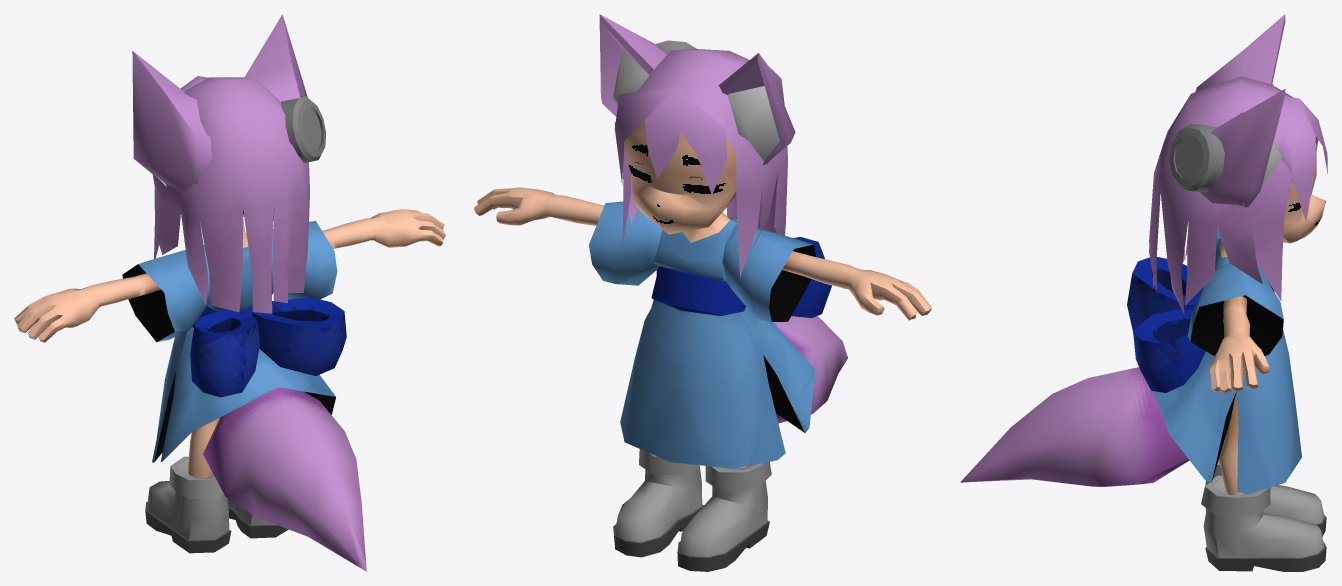
Rendered from minisil.glb.
3 views of the same model, side by side, from view 1: azimuth 30°, elevation 25°; view 2: azimuth 150°, elevation 25°; view 3: azimuth 270°, elevation 25° (orthographic). The views are drawn at different scales.
Parts seen in each view (by area): view 1: minisil; view 2: minisil; view 3: minisil.
Boxes of the visible parts, x1=… form: minisil: x1=14, y1=14, x2=445, y2=571; minisil: x1=474, y1=14, x2=931, y2=571; minisil: x1=960, y1=14, x2=1327, y2=571.
Size of the model in its own units: 0.3397 by 0.3699 by 0.2493.
1 material, 1 textured.
